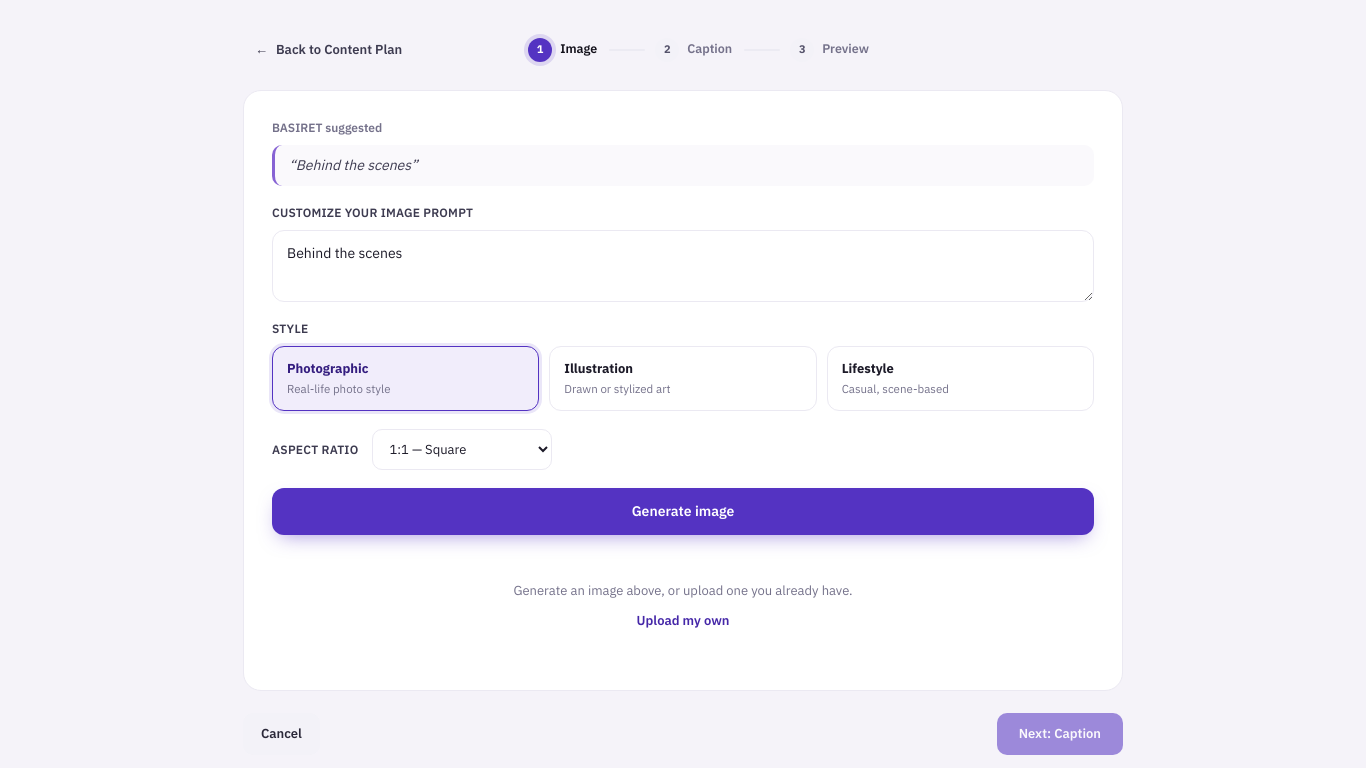
Scenario: WizardCaptionStep — generate flow › on success, populates the editable textarea with the AI caption
Click the button with test id "image-generate": (683, 512) [272,488,1094,535]
(page scrolled)
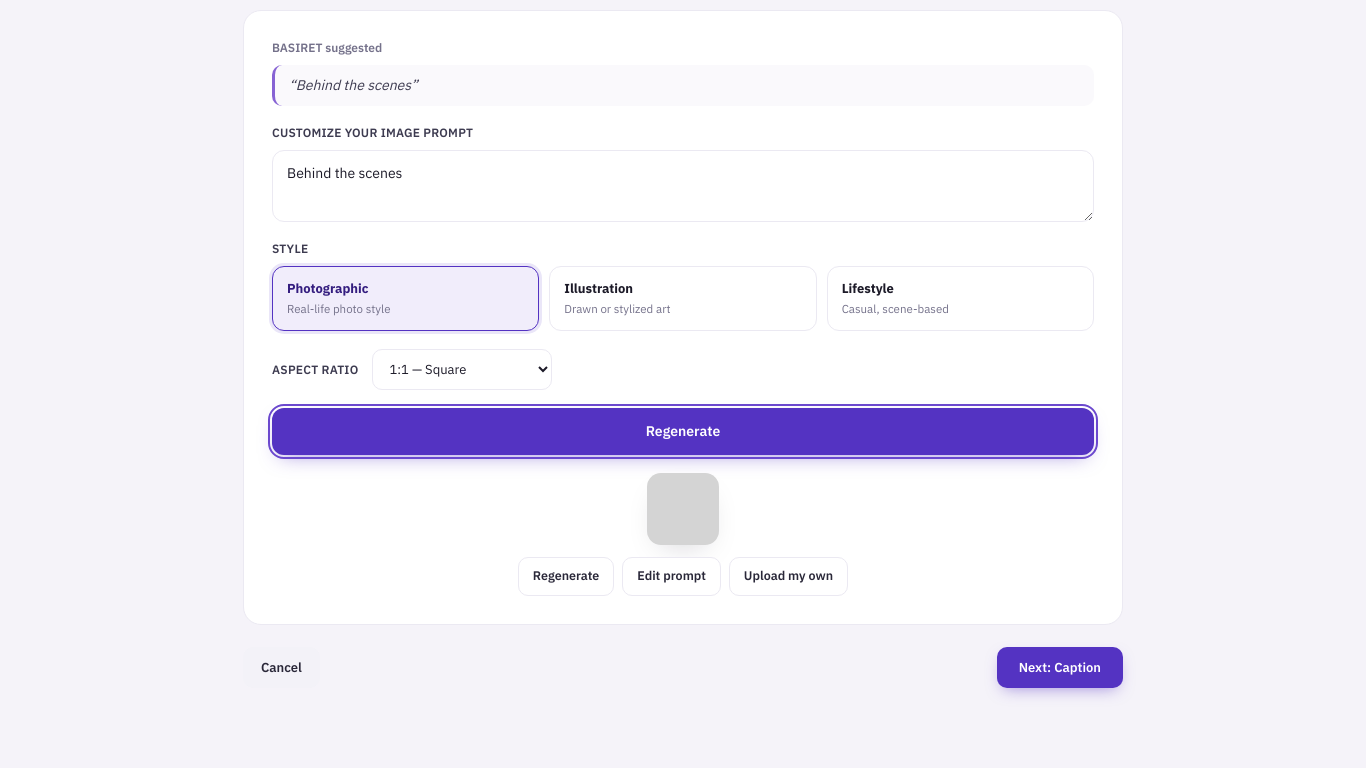
Click the button with test id "wizard-next": (1060, 668) [997,647,1123,688]
(page scrolled)
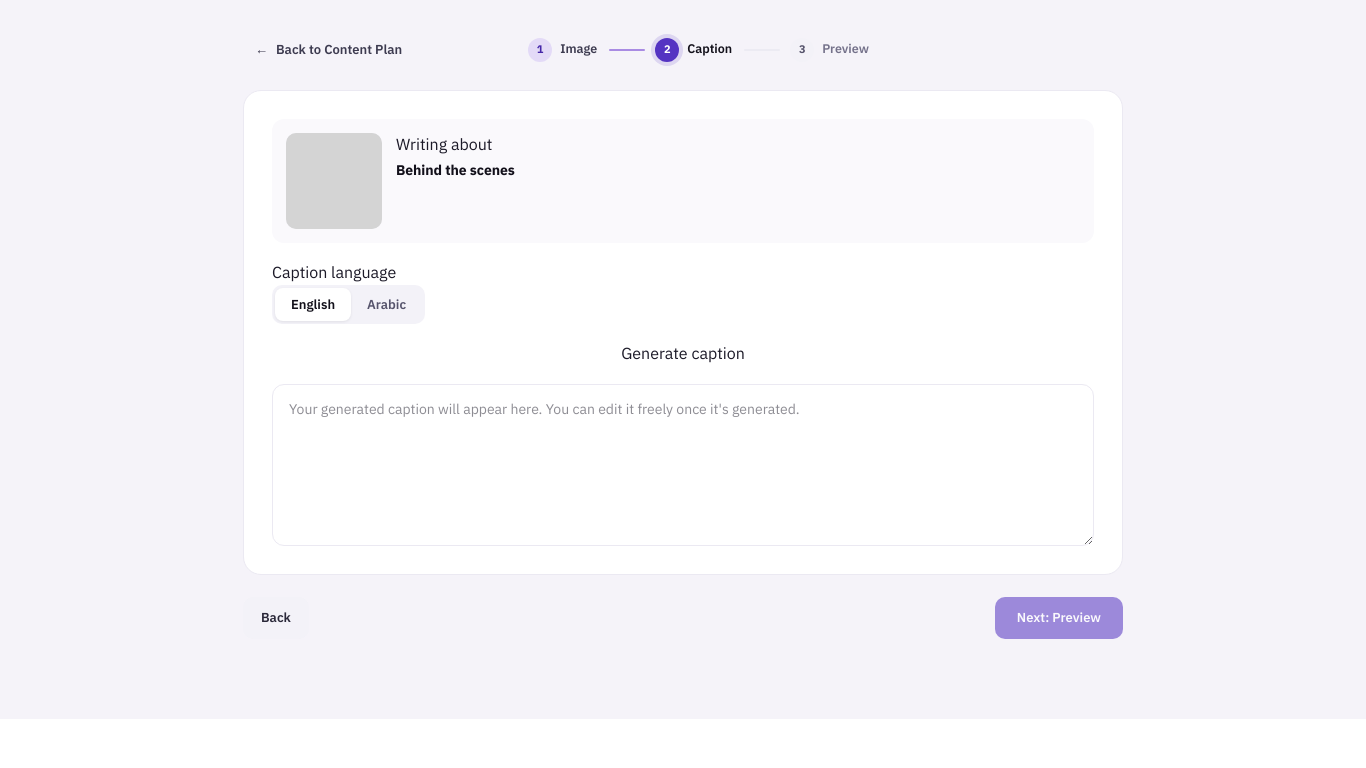
Click the button with test id "caption-generate": (683, 354) [272,342,1094,366]
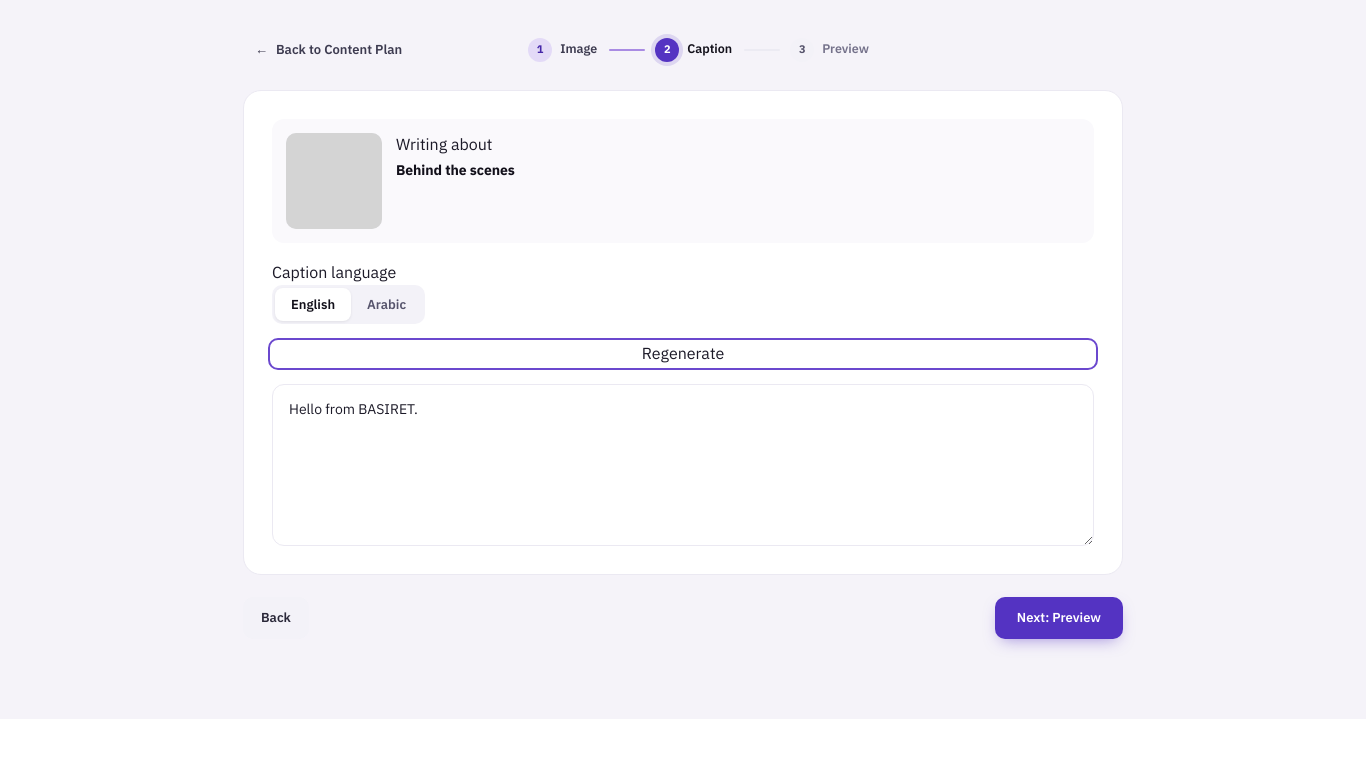
Now the text box with test id "caption-textarea" holds "Hello from BASIRET.", box [272,384,1094,546]
